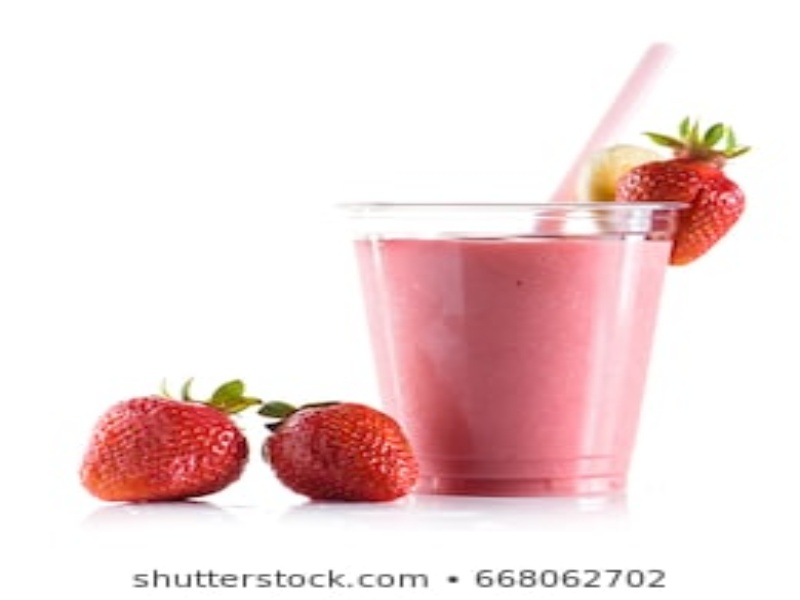plastic-cup: (328, 197, 701, 503)
straw: (532, 42, 681, 230)
